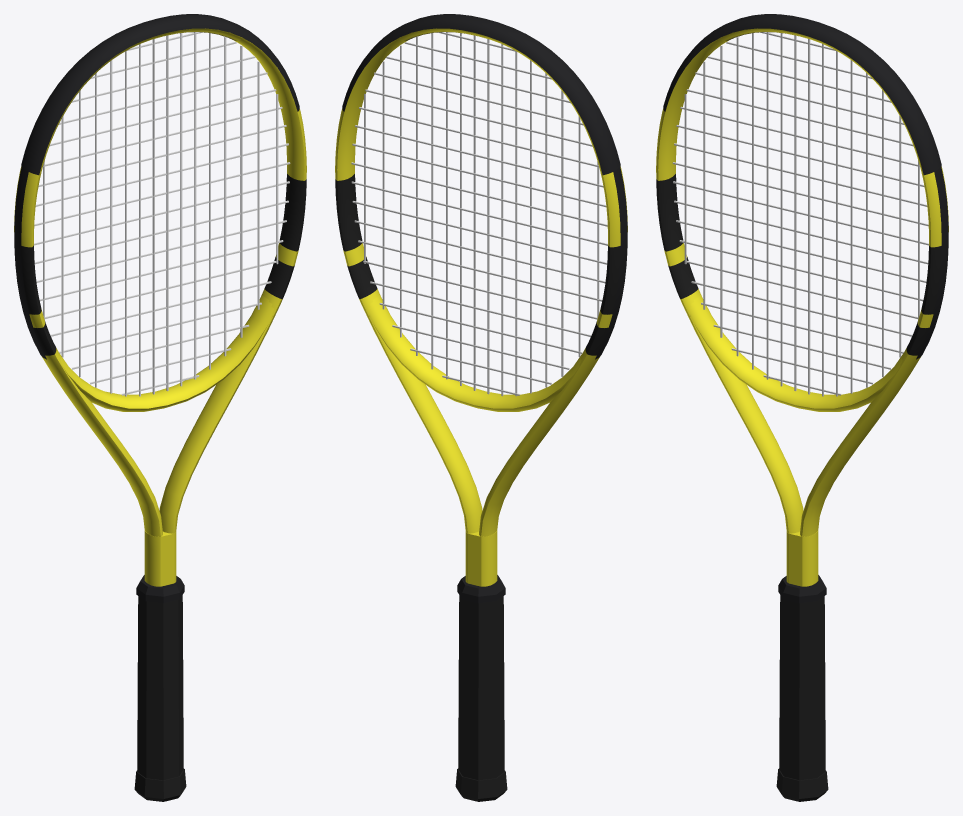
Rendered from babolat-pure-aero-plus-2019gen.glb.
3 renders of one model, left to right at view 1: azimuth 30°, elevation 25°; view 2: azimuth 150°, elevation 25°; view 3: azimuth 330°, elevation 25°, orthographic.
Visible parts, largest first — view 1: frame, strings_mains, strings_crosses, grip, bumper, grommets, butt_cap, collar; view 2: frame, strings_mains, strings_crosses, grip, bumper, grommets, butt_cap, collar; view 3: frame, strings_mains, strings_crosses, grip, bumper, grommets, butt_cap, collar.
Part boxes in pixels (x1,y1,x2,y2): frame: (14, 28, 306, 586); strings_mains: (43, 32, 278, 396); strings_crosses: (34, 32, 290, 395); grip: (137, 595, 183, 780); bumper: (21, 14, 299, 175); grommets: (14, 167, 46, 359); butt_cap: (134, 768, 186, 801); collar: (136, 575, 184, 603); frame: (335, 28, 627, 586); strings_mains: (364, 32, 599, 396); strings_crosses: (351, 32, 607, 395); grip: (458, 595, 504, 780); bumper: (342, 14, 620, 175); grommets: (595, 167, 627, 359); butt_cap: (455, 768, 507, 801); collar: (457, 575, 505, 603); frame: (656, 28, 948, 586); strings_mains: (684, 32, 919, 396); strings_crosses: (672, 32, 928, 395); grip: (779, 595, 825, 780); bumper: (663, 14, 941, 175); grommets: (916, 167, 948, 359); butt_cap: (776, 768, 828, 801); collar: (778, 575, 826, 603).
Bounding box in the file's own units: 0.2718 × 0.6988 × 0.0396.
